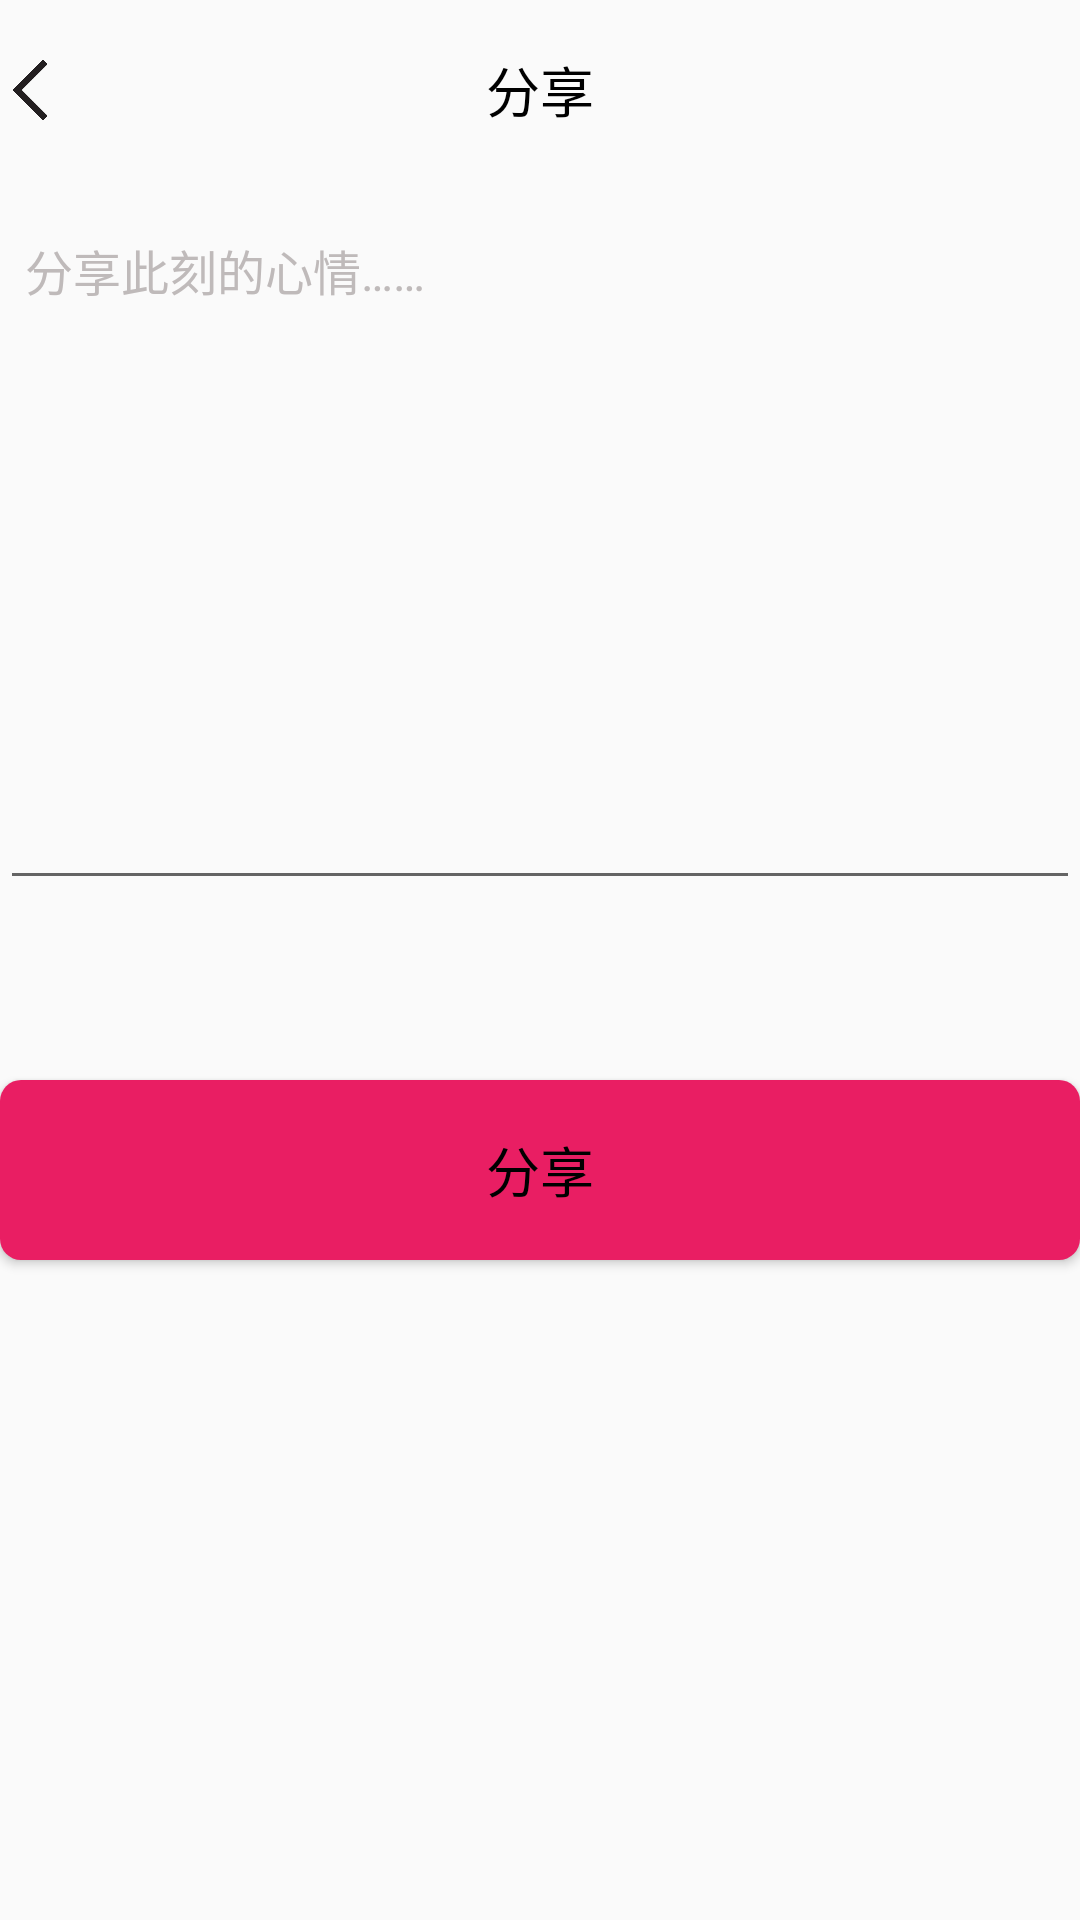

Named icons in this screenshot (1080×1920) and their bounding boxes, (x1, y1, x2, y2):
left: (13, 60, 47, 120)
